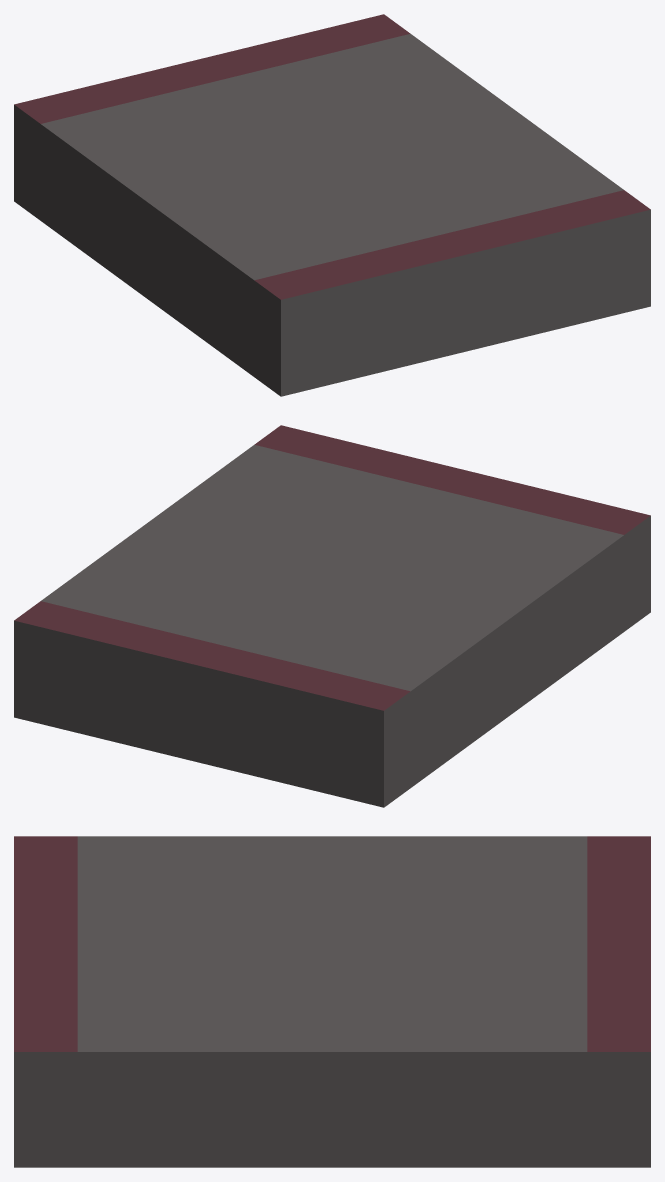
The model's file is train-station-platform-empty-small.fbx.
The picture shows the model from 3 angles, top to bottom: view 1: azimuth 30°, elevation 25°; view 2: azimuth 150°, elevation 25°; view 3: azimuth 270°, elevation 25°; orthographic projection. The views are drawn at different scales.
Parts seen in each view (by area): view 1: train-station-platform-empty-small; view 2: train-station-platform-empty-small; view 3: train-station-platform-empty-small.
Part boxes in pixels (x1,y1,x2,y2): train-station-platform-empty-small: (14, 14, 650, 396); train-station-platform-empty-small: (14, 425, 650, 807); train-station-platform-empty-small: (14, 836, 650, 1167).
Bounding box in the file's own units: 4 × 1 × 5.
